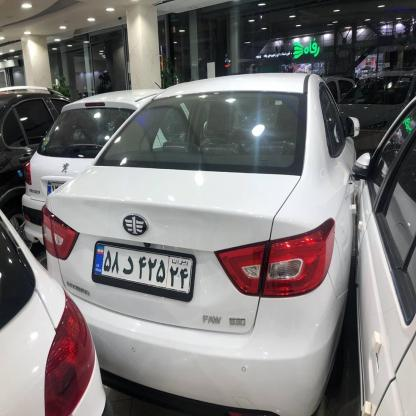Car: (49, 69, 358, 412), (18, 75, 146, 261)
